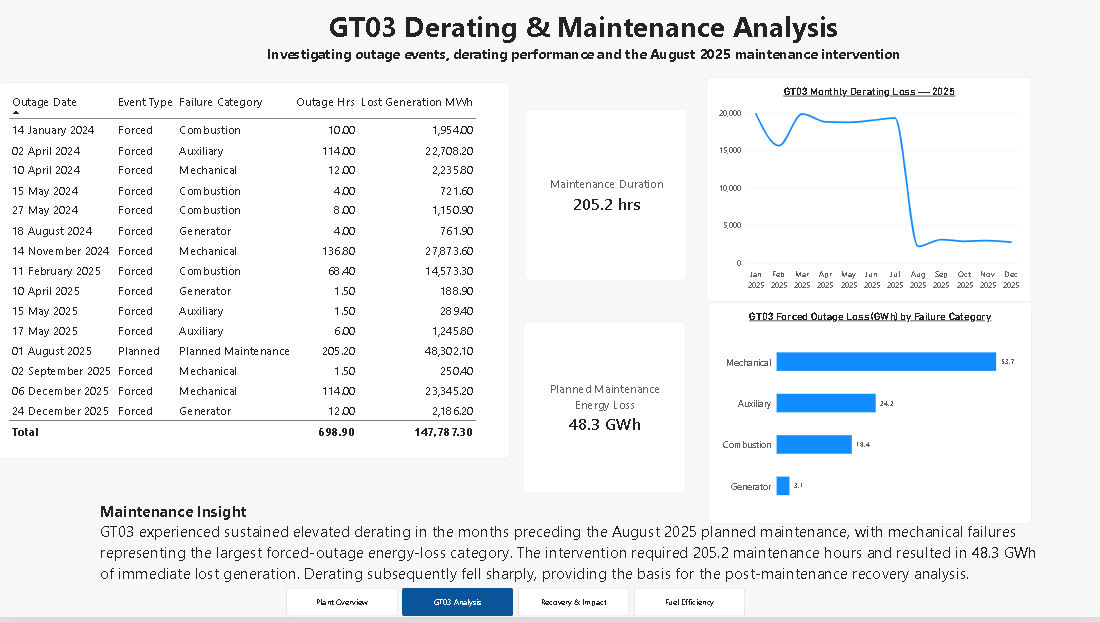

What the dashboard file says about the page in this screenshot:
{"tool":"powerbi","page":{"name":"GT03 Analysis","canvas":[1920,1080],"ordinal":1},"visuals":[{"type":"tableEx","fields":{"Values":["FactOutagesTable.Outage Date","FactOutagesTable.EventType","FactOutagesTable.FailureCategory","Sum(FactOutagesTable.OutageHours)","Sum(FactOutagesTable.LostMWh)"]},"box":[0,147.6,890.3,655.6],"z":0},{"type":"textbox","box":[203.2,16.9,1633,121],"z":1000},{"type":"lineChart","title":"GT03 Monthly Derating Loss — 2025","fields":{"Category":["DimDate.Month Year"],"Y":["FactGenerationTable.Derating Loss MWh"]},"box":[1233.8,137.9,566.1,391.9],"z":2000},{"type":"cardVisual","fields":{"Data":["FactGenerationTable.Maintenance Outage Loss GWh"]},"box":[914.5,563.5,283.1,300],"z":3000},{"type":"cardVisual","fields":{"Data":["FactGenerationTable.GT03 Maintenance Outage Hours"]},"box":[916.9,193.5,283.1,300],"z":4000},{"type":"textbox","box":[176.6,875.8,1659.6,152.4],"z":5000},{"type":"clusteredBarChart","title":"GT03 Forced Outage Loss (GWh) by Failure Category","fields":{"Category":["FactOutagesTable.FailureCategory"],"Y":["FactOutagesTable.Outage Lost GWh"]},"box":[1236.3,529.8,564.7,386.7],"z":6000},{"type":"pageNavigator","box":[500.8,1028.2,800,50],"z":6001}]}

Visuals, with their boxes in screenshot pixels (x1, y1, x2, y2), scaled from the page's 1920x1080 canvas onto the 1100x622 screenshot:
tableEx - FactOutagesTable.Outage Date x FactOutagesTable.EventType: [left=0, top=85, right=510, bottom=463]
textbox: [left=116, top=10, right=1052, bottom=79]
"GT03 Monthly Derating Loss — 2025" lineChart: [left=707, top=79, right=1031, bottom=305]
cardVisual - FactGenerationTable.Maintenance Outage Loss GWh: [left=524, top=325, right=686, bottom=497]
cardVisual - FactGenerationTable.GT03 Maintenance Outage Hours: [left=525, top=111, right=688, bottom=284]
textbox: [left=101, top=504, right=1052, bottom=592]
"GT03 Forced Outage Loss (GWh) by Failure Category" clusteredBarChart: [left=708, top=305, right=1032, bottom=528]
pageNavigator: [left=287, top=592, right=745, bottom=621]
